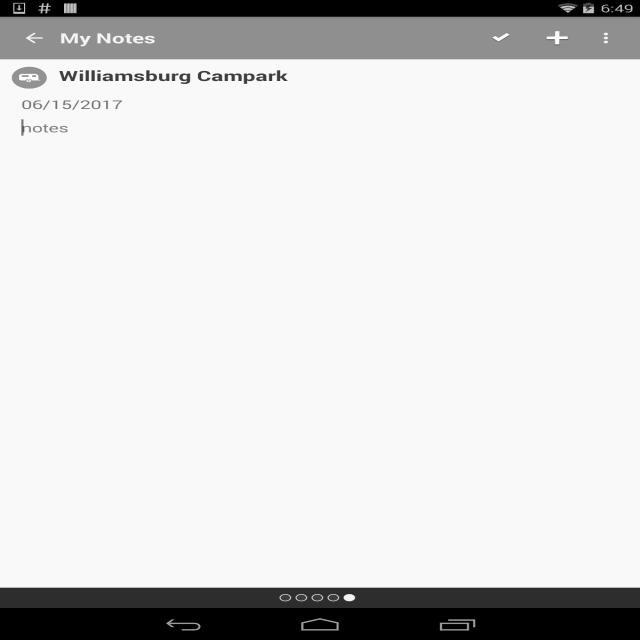EditText: (0, 113, 640, 608)
ImageButton: (8, 17, 59, 59)
ImageView: (0, 59, 59, 96), (587, 22, 629, 54)
TextView: (59, 59, 288, 85), (60, 28, 156, 48), (527, 22, 587, 54), (476, 22, 527, 54), (21, 96, 123, 112)
